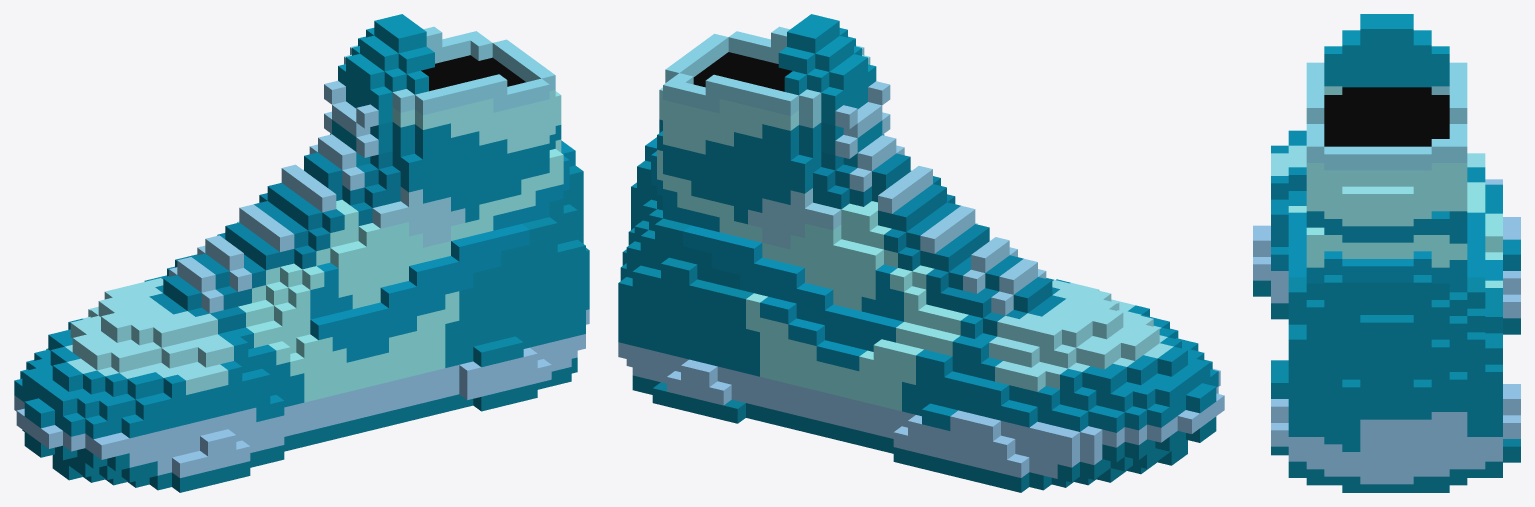
The model's file is Ice Blue.fbx.
3 views of the same model, side by side, from view 1: azimuth 30°, elevation 25°; view 2: azimuth 150°, elevation 25°; view 3: azimuth 270°, elevation 25° (orthographic). The views are drawn at different scales.
Parts seen in each view (by area): view 1: Untitled; view 2: Untitled; view 3: Untitled.
Boxes of the visible parts, left/top/right/bottom form: Untitled: left=14, top=14, right=589, bottom=492; Untitled: left=618, top=14, right=1224, bottom=492; Untitled: left=1253, top=14, right=1520, bottom=492.
Bounding box in the file's own units: 390 × 240 × 150.
